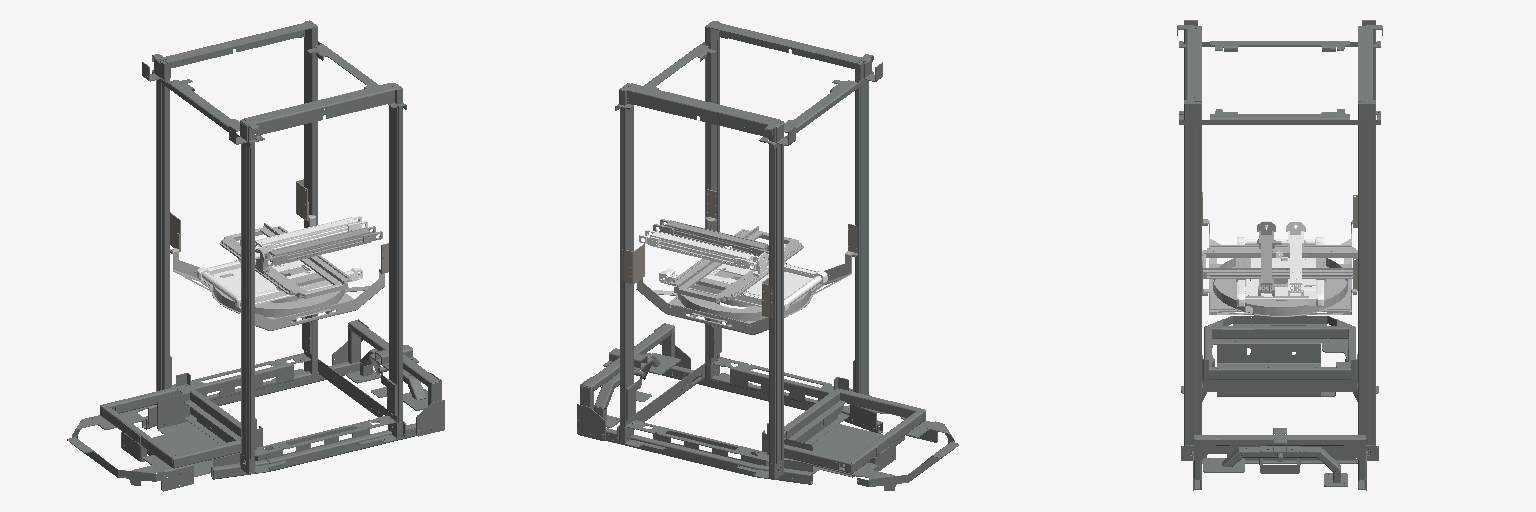
robot.urdf — soto_2_0_description:
<robot name="soto_2_0_description">
  <link name="base_footprint" />
  <joint name="base_footprint_to_base" type="fixed">
    
    <origin rpy="0 0 0" xyz="0 0 0.1815" />
    <parent link="base_footprint" />
    <child link="base_link" />
  </joint>
  
  <link name="base_link">
    <inertial>
      <origin rpy="0 0 0" xyz="-0.030858267467835 0.000734792595130519 -0.0262663159827579" />
      <mass value="63.5292905960047" />
      <inertia ixx="3.63597230656031" ixy="0.026575132004481" ixz="0.167726202587328" iyy="26.1224110628601" iyz="6.86288099105268E-05" izz="29.4697351846051" />
    </inertial>
    <visual>
      <origin rpy="0 0 0" xyz="0 0 0" />
      <geometry>
        <mesh filename="package://drive_base_soto_2_0_description/meshes/base_link.STL" />
      </geometry>
      <material name="">
        <color rgba="0.529411764705882 0.549019607843137 0.549019607843137 1" />
      </material>
    </visual>
    <collision>
      <origin rpy="0 0 0" xyz="0 0 0" />
      <geometry>
        <mesh filename="package://drive_base_soto_2_0_description/meshes/base_link.STL" />
      </geometry>
    </collision>
  </link>
  <joint name="manipulator_base_to_base_link" type="fixed">
    <origin rpy="0 0 0" xyz="0.2365 0 -0.0385" />
    <parent link="base_link" />
    <child link="manipulator_base_link" />
  </joint>
  <link name="gripper_carrier_frame_link">
    <inertial>
      <origin rpy="0 0 0" xyz="0.419871261985957 -0.378092873023538 -0.172763052387008" />
      <mass value="22.6544046182285" />
      <inertia ixx="0.000978681072360067" ixy="5.36158454747139E-06" ixz="5.72288391326164E-05" iyy="0.212674313369314" iyz="-4.50383372113037E-05" izz="0.211729185697808" />
    </inertial>
    <visual>
      <origin rpy="0 0 0" xyz="0 0 0" />
      <geometry>
        <mesh filename="package://vertical_axis_soto_2_0_description/meshes/gripper_carrier_frame_link.STL" />
      </geometry>
      <material name="">
        <color rgba="0.752941176470588 0.752941176470588 0.752941176470588 1" />
      </material>
    </visual>
    <collision>
      <origin rpy="0 0 0" xyz="0 0 0" />
      <geometry>
        <mesh filename="package://vertical_axis_soto_2_0_description/meshes/gripper_carrier_frame_link.STL" />
      </geometry>
    </collision>
  </link>
  <joint name="vertical_axis_to_carrier_frame" type="fixed">
    <origin rpy="0 0 0" xyz="0 0 0.2565" />
    <parent link="vertical_axis_link" />
    <child link="gripper_carrier_frame_link" />
  </joint>
  
  <link name="manipulator_base_link">
    <inertial>
      <origin rpy="0 0 0" xyz="0.0140831490754253 -0.0103314828835449 1.03628074208567" />
      <mass value="49.4957057836692" />
      <inertia ixx="28.4337696303107" ixy="0.170730173040725" ixz="0.770352253194218" iyy="27.3913289655028" iyz="0.419406036104634" izz="15.9885561853555" />
    </inertial>
    <visual>
      <origin rpy="0 0 0" xyz="0 0 0" />
      <geometry>
        <mesh filename="package://vertical_axis_soto_2_0_description/meshes/manipulator_base_link.STL" />
      </geometry>
      <material name="">
        <color rgba="0.529411764705882 0.549019607843137 0.549019607843137 1" />
      </material>
    </visual>
    <collision>
      <origin rpy="0 0 0" xyz="0 0 0" />
      <geometry>
        <mesh filename="package://vertical_axis_soto_2_0_description/meshes/manipulator_base_link.STL" />
      </geometry>
    </collision>
  </link>
  <link name="vertical_axis_link">
    <inertial>
      <origin rpy="0 0 0" xyz="0.420000000000104 -0.147165343803046 0.0668738949005537" />
      <mass value="4.67274949695533" />
      <inertia ixx="0.605491366340649" ixy="-1.6991963391888E-13" ixz="2.22521653880925E-14" iyy="0.756041439643056" iyz="-0.0117324984712755" izz="1.35863466880556" />
    </inertial>
    <visual>
      <origin rpy="0 0 0" xyz="0 0 0.2565" />
      <geometry>
        <mesh filename="package://vertical_axis_soto_2_0_description/meshes/vertical_axis_link.STL" />
      </geometry>
      <material name="">
        <color rgba="0.647058823529412 0.619607843137255 0.588235294117647 1" />
      </material>
    </visual>
    <collision>
      <origin rpy="0 0 0" xyz="0 0 0.2565" />
      <geometry>
        <mesh filename="package://vertical_axis_soto_2_0_description/meshes/vertical_axis_link.STL" />
      </geometry>
    </collision>
  </link>
  <joint name="vertical_axis" type="prismatic">
    <origin rpy="0 0 0" xyz="-0.420000000000075 0.381609999999924 -0.488" />
    <parent link="manipulator_base_link" />
    <child link="vertical_axis_link" />
    <axis xyz="0 0 1" />
    <limit effort="1368.21" lower="0.355" upper="1.968" velocity="0.322917" />
  </joint>
  <joint name="gripper_rotate" type="revolute">
    <origin rpy="0 0 0" xyz="0.42 -0.378 -0.1425" />
    <parent link="gripper_carrier_frame_link" />
    <child link="gripper_base_link" />
    <axis xyz="0 0 1" />
    <limit effort="18.0" lower="-1.62316" upper="3.19395" velocity="1.84078" />
  </joint>
  
  <link name="gripper_base_link">
    <inertial>
      <origin rpy="0 0 0" xyz="-0.0291964947014054 0.00185928064465478 0.0571112330957645" />
      <mass value="4.43604003962018" />
      <inertia ixx="0.00848228102782677" ixy="-0.00397948149068779" ixz="-0.000197943829855595" iyy="0.0294439378703873" iyz="-4.43345350995509E-05" izz="0.0375329931767107" />
    </inertial>
    <visual>
      <origin rpy="0 0 0" xyz="0 0 0" />
      <geometry>
        <mesh filename="package://conveyor_gripper_1_0_description/meshes/gripper_base_link.STL" />
      </geometry>
      <material name="">
        <color rgba="1 1 1 1" />
      </material>
    </visual>
    <collision>
      <origin rpy="0 0 0" xyz="0 0 0" />
      <geometry>
        <mesh filename="package://conveyor_gripper_1_0_description/meshes/gripper_base_link.STL" />
      </geometry>
    </collision>
  </link>
  <link name="gripper_base_x_link">
    
    <inertial>
      <origin xyz="0 0 0" />
      <mass value="1.0" />
      <inertia ixx="0.00166666666667" ixy="0" ixz="0" iyy="0.00166666666667" iyz="0" izz="0.00166666666667" />
    </inertial>
    <visual>
      <origin rpy="0 0 0" xyz="0 0 0" />
      <geometry>
        <mesh filename="package://conveyor_gripper_1_0_description/meshes/gripper_base_x_link.STL" />
      </geometry>
      <material name="">
        <color rgba="0.752941176470588 0.752941176470588 0.752941176470588 1" />
      </material>
    </visual>
    <collision>
      <origin rpy="0 0 0" xyz="0 0 0" />
      <geometry>
        <mesh filename="package://conveyor_gripper_1_0_description/meshes/gripper_base_x_link.STL" />
      </geometry>
    </collision>
  </link>
  <joint name="gripper_base_x" type="prismatic">
    <origin rpy="0 0 0" xyz="-0.3105 0 0.0334999999999999" />
    <parent link="gripper_base_link" />
    <child link="gripper_base_x_link" />
    <axis xyz="1 0 0" />
    <limit effort="149.65" lower="0.002" upper="0.359" velocity="0.296" />
  </joint>
  
  <joint name="gripper_base_x_to_lateral_frame" type="fixed">
    <origin rpy="0 0 0" xyz="0.16682 0.00254 0.09900" />
    <parent link="gripper_base_x_link" />
    <child link="gripper_lateral_frame_link" />
    <axis xyz="0 0 0" />
  </joint>
  
  <link name="gripper_surface_tip_link" />
  <joint name="gripper_lateral_base_to_surface_tip" type="fixed">
    <origin rpy="0 0 0" xyz="0.5286 0 0.09824" />
    <parent link="gripper_lateral_frame_link" />
    <child link="gripper_surface_tip_link" />
  </joint>
  
  <link name="gripper_lateral_frame_link">
    <inertial>
      <origin rpy="0 0 0" xyz="0.0109523584667708 -0.00213924832383244 -0.0127104571800313" />
      <mass value="9.06374767181828" />
      <inertia ixx="0.152907857864764" ixy="-0.000359950628530387" ixz="-0.00123889187432906" iyy="0.0557080358972366" iyz="-0.000575501671994657" izz="0.206424853480047" />
    </inertial>
    <visual>
      <origin rpy="0 0 0" xyz="0 0 0" />
      <geometry>
        <mesh filename="package://conveyor_gripper_1_0_description/meshes/gripper_lateral_frame_link.STL" />
      </geometry>
      <material name="">
        <color rgba="0.752941176470588 0.752941176470588 0.752941176470588 1" />
      </material>
    </visual>
    <collision>
      <origin rpy="0 0 0" xyz="0 0 0" />
      <geometry>
        <mesh filename="package://conveyor_gripper_1_0_description/meshes/gripper_lateral_frame_link.STL" />
      </geometry>
    </collision>
  </link>
  <link name="gripper_y_right_link">
    <inertial>
      <origin rpy="0 0 0" xyz="0.00354228739566675 -0.0287875724844683 -0.0242552174069289" />
      <mass value="0.327260297311246" />
      <inertia ixx="0.000196526493426853" ixy="-2.29379028088093E-05" ixz="7.56584769951965E-05" iyy="0.000210428427291072" iyz="4.8646299306573E-05" izz="5.22867445641922E-05" />
    </inertial>
    <visual>
      <origin rpy="0 0 0" xyz="0 0 0" />
      <geometry>
        <mesh filename="package://conveyor_gripper_1_0_description/meshes/gripper_y_right_link.STL" />
      </geometry>
      <material name="">
        <color rgba="0.698039215686274 0.698039215686274 0.698039215686274 1" />
      </material>
    </visual>
    <collision>
      <origin rpy="0 0 0" xyz="0 0 0" />
      <geometry>
        <mesh filename="package://conveyor_gripper_1_0_description/meshes/gripper_y_right_link.STL" />
      </geometry>
    </collision>
  </link>
  <joint name="gripper_y_right" type="prismatic">
    <origin rpy="0 0 0" xyz="-0.1895 -0.291 0.0768" />
    <parent link="gripper_lateral_frame_link" />
    <child link="gripper_y_right_link" />
    <axis xyz="0 1 0" />
    <limit effort="36.9721" lower="0.002" upper="0.498" velocity="0.414175" />
  </joint>
  <link name="gripper_y_right_dist_x_sensor">
    
    <inertial>
      <origin xyz="0 0 0" />
      <mass value="0.206" />
      <inertia ixx="0.000343333333333" ixy="0" ixz="0" iyy="0.000343333333333" iyz="0" izz="0.000343333333333" />
    </inertial>
    <visual>
      <origin rpy="0 0 0" xyz="0 0 0" />
      <geometry>
        <mesh filename="package://conveyor_gripper_1_0_description/meshes/gripper_y_right_dist_x_sensor.STL" />
      </geometry>
      <material name="">
        <color rgba="1 1 1 1" />
      </material>
    </visual>
  </link>
  <joint name="gripper_y_right_to_dist_x_sensor" type="fixed">
    <origin rpy="1.5707963267949 8.45933770995668E-16 1.72247079380644E-16" xyz="-0.000773072340143593 -0.0340048054495324 0.0292" />
    <parent link="gripper_y_right_link" />
    <child link="gripper_y_right_dist_x_sensor" />
    <axis xyz="0 0 0" />
  </joint>
  <link name="gripper_y_left_link">
    <inertial>
      <origin rpy="0 0 0" xyz="0.00355881845944125 -0.0392124275155317 -0.0242552174069289" />
      <mass value="0.327260297311246" />
      <inertia ixx="0.000196526493426853" ixy="2.2946784360994E-05" ixz="7.58716206094717E-05" iyy="0.000210573949255188" iyz="-4.86462993065728E-05" izz="5.24322665283085E-05" />
    </inertial>
    <visual>
      <origin rpy="0 0 0" xyz="0 0 0" />
      <geometry>
        <mesh filename="package://conveyor_gripper_1_0_description/meshes/gripper_y_left_link.STL" />
      </geometry>
      <material name="">
        <color rgba="1 1 1 1" />
      </material>
    </visual>
    <collision>
      <origin rpy="0 0 0" xyz="0 0 0" />
      <geometry>
        <mesh filename="package://conveyor_gripper_1_0_description/meshes/gripper_y_left_link.STL" />
      </geometry>
    </collision>
  </link>
  <joint name="gripper_y_left" type="prismatic">
    <origin rpy="0 0 0" xyz="-0.1895 0.359 0.0768" />
    <parent link="gripper_lateral_frame_link" />
    <child link="gripper_y_left_link" />
    <axis xyz="0 -1 0" />
    <limit effort="36.9721" lower="0.002" upper="0.498" velocity="0.414175" />
  </joint>
  <link name="gripper_y_left_dist_x_sensor">
    
    <inertial>
      <origin xyz="0 0 0" />
      <mass value="0.206" />
      <inertia ixx="0.000343333333333" ixy="0" ixz="0" iyy="0.000343333333333" iyz="0" izz="0.000343333333333" />
    </inertial>
    <visual>
      <origin rpy="0 0 0" xyz="0 0 0" />
      <geometry>
        <mesh filename="package://conveyor_gripper_1_0_description/meshes/gripper_y_left_dist_x_sensor.STL" />
      </geometry>
      <material name="">
        <color rgba="1 1 1 1" />
      </material>
    </visual>
  </link>
  <joint name="gripper_y_left_to_dist_x_sensor" type="fixed">
    <origin rpy="-1.5707963267949 2.6257874588619E-16 4.90441639395184E-17" xyz="-0.00077307234014351 -0.0339951945504676 0.0292" />
    <parent link="gripper_y_left_link" />
    <child link="gripper_y_left_dist_x_sensor" />
    <axis xyz="0 0 0" />
  </joint>
  
  <joint name="gripper_y_right_to_belt_right" type="fixed">
    <parent link="gripper_y_right_link" />
    <child link="conveyor_belt_right_base_link" />
  </joint>
  
  <link name="conveyor_belt_right_link">
    
    <inertial>
      <origin xyz="0 0 0" />
      <mass value="0.5" />
      <inertia ixx="0.000833333333333" ixy="0" ixz="0" iyy="0.000833333333333" iyz="0" izz="0.000833333333333" />
    </inertial>
  </link>
  <joint name="conveyor_belt_right" type="prismatic">
    <origin rpy="0 0 0" xyz="0 0 0" />
    <parent link="conveyor_belt_right_surface_foremost_link" />
    <child link="conveyor_belt_right_link" />
    <axis xyz="-1 0 0" />
    
    <limit effort="30" lower="0" upper="0.60" velocity="1" />
  </joint>
  
  <link name="conveyor_belt_right_base_link">
    <inertial>
      <origin rpy="0 0 0" xyz="0.353839700449319 -0.0342492002501805 -0.0100000000278072" />
      <mass value="1.75237629293966" />
      <inertia ixx="0.00106107197657959" ixy="3.25747306440015E-06" ixz="3.63423703976073E-13" iyy="0.0518565044065418" iyz="-3.83928274166947E-14" izz="0.0519817058628901" />
    </inertial>
    <visual>
      <origin rpy="0 0 0" xyz="0 0 0" />
      <geometry>
        <mesh filename="package://conveyor_gripper_1_0_description/meshes/conveyor_belt_right_base_link.STL" />
      </geometry>
      <material name="">
        <color rgba="0.698039215686274 0.698039215686274 0.698039215686274 1" />
      </material>
    </visual>
    <collision>
      <origin rpy="0 0 0" xyz="0 0 0" />
      <geometry>
        <mesh filename="package://conveyor_gripper_1_0_description/meshes/conveyor_belt_right_base_link.STL" />
      </geometry>
    </collision>
  </link>
  <link name="conveyor_belt_right_foremost_link" />
  <joint name="belt_right_base_to_foremost" type="fixed">
    <origin rpy="0 0 0" xyz="0.718038238155445 -0.0339999999950005 0.02174" />
    <parent link="conveyor_belt_right_base_link" />
    <child link="conveyor_belt_right_foremost_link" />
    <axis xyz="0 0 0" />
  </joint>
  <link name="conveyor_belt_right_surface_foremost_link">
    
    <inertial>
      <origin xyz="0 0 0" />
      <mass value="0.01" />
      <inertia ixx="1.66666666667e-05" ixy="0" ixz="0" iyy="1.66666666667e-05" iyz="0" izz="1.66666666667e-05" />
    </inertial>
  </link>
  <joint name="belt_right_base_to_surface_foremost" type="fixed">
    <origin rpy="0 0 0" xyz="0.686298238155445 -0.0339999999950005 0.02174" />
    <parent link="conveyor_belt_right_base_link" />
    <child link="conveyor_belt_right_surface_foremost_link" />
    <axis xyz="0 0 0" />
  </joint>
  
  <joint name="gripper_y_left_to_belt" type="fixed">
    <parent link="gripper_y_left_link" />
    <child link="conveyor_belt_left_base_link" />
  </joint>
  
  <link name="conveyor_belt_left_link">
    
    <inertial>
      <origin xyz="0 0 0" />
      <mass value="0.5" />
      <inertia ixx="0.000833333333333" ixy="0" ixz="0" iyy="0.000833333333333" iyz="0" izz="0.000833333333333" />
    </inertial>
  </link>
  <joint name="conveyor_belt_left" type="prismatic">
    <origin rpy="0 0 0" xyz="0 0 0" />
    <parent link="conveyor_belt_left_surface_foremost_link" />
    <child link="conveyor_belt_left_link" />
    <axis xyz="-1 0 0" />
    
    <limit effort="30" lower="0" upper="0.60" velocity="1" />
  </joint>
  
  <link name="conveyor_belt_left_base_link">
    <inertial>
      <origin rpy="0 0 0" xyz="0.351579454282733 -0.0337525735461215 -0.00999999997239077" />
      <mass value="1.76493912170865" />
      <inertia ixx="0.00108186929664942" ixy="-4.24450588331179E-06" ixz="-4.73563126814083E-13" iyy="0.0531142162231874" iyz="-3.84792553638102E-14" izz="0.0532602149996055" />
    </inertial>
    <visual>
      <origin rpy="0 0 0" xyz="0 0 0" />
      <geometry>
        <mesh filename="package://conveyor_gripper_1_0_description/meshes/conveyor_belt_left_base_link.STL" />
      </geometry>
      <material name="">
        <color rgba="1 1 1 1" />
      </material>
    </visual>
    <collision>
      <origin rpy="0 0 0" xyz="0 0 0" />
      <geometry>
        <mesh filename="package://conveyor_gripper_1_0_description/meshes/conveyor_belt_left_base_link.STL" />
      </geometry>
    </collision>
  </link>
  <link name="conveyor_belt_left_foremost_link" />
  <joint name="base_left_to_foremost" type="fixed">
    <origin rpy="0 0 0" xyz="0.718038238155445 -0.0339999999950005 0.02174" />
    <parent link="conveyor_belt_left_base_link" />
    <child link="conveyor_belt_left_foremost_link" />
    <axis xyz="0 0 0" />
  </joint>
  <link name="conveyor_belt_left_surface_foremost_link">
    
    <inertial>
      <origin xyz="0 0 0" />
      <mass value="0.01" />
      <inertia ixx="1.66666666667e-05" ixy="0" ixz="0" iyy="1.66666666667e-05" iyz="0" izz="1.66666666667e-05" />
    </inertial>
  </link>
  <joint name="belt_left_to_surface_foremost" type="fixed">
    <origin rpy="0 0 0" xyz="0.686298238155445 -0.0339999999950005 0.02174" />
    <parent link="conveyor_belt_left_base_link" />
    <child link="conveyor_belt_left_surface_foremost_link" />
    <axis xyz="0 0 0" />
  </joint>
  <link name="conveyor_belt_left_barcode_camera">
    
    <inertial>
      <origin xyz="0 0 0" />
      <mass value="0.1" />
      <inertia ixx="0.000166666666667" ixy="0" ixz="0" iyy="0.000166666666667" iyz="0" izz="0.000166666666667" />
    </inertial>
    <visual>
      <origin rpy="0 0 0" xyz="0 0 0" />
      <geometry>
        <mesh filename="package://conveyor_gripper_1_0_description/meshes/conveyor_belt_left_barcode_camera.STL" />
      </geometry>
      <material name="">
        <color rgba="1 1 1 1" />
      </material>
    </visual>
  </link>
  <joint name="conveyor_base_left_to_barcode_camera" type="fixed">
    
    <origin rpy="1.3660676472658 0.00532358718963196 1.38245094245529" xyz="0.260007017149422 -0.122391992222825 -0.0116598009191592" />
    <parent link="conveyor_belt_left_base_link" />
    <child link="conveyor_belt_left_barcode_camera" />
    <axis xyz="0 0 0" />
  </joint>
  <link name="conveyor_belt_left_reflective_sensor">
    
    <inertial>
      <origin xyz="0 0 0" />
      <mass value="0.07" />
      <inertia ixx="0.000116666666667" ixy="0" ixz="0" iyy="0.000116666666667" iyz="0" izz="0.000116666666667" />
    </inertial>
    <visual>
      <origin rpy="0 0 0" xyz="0 0 0" />
      <geometry>
        <mesh filename="package://conveyor_gripper_1_0_description/meshes/conveyor_belt_left_reflective_sensor.STL" />
      </geometry>
      <material name="">
        <color rgba="1 1 1 1" />
      </material>
    </visual>
  </link>
  <joint name="conveyor_belt_left_base_to_reflective" type="fixed">
    <origin rpy="-1.5707963267949 1.45855003581176E-16 -5.73827871115263E-16" xyz="0.242349119077722 -0.0938499999900007 -0.0408000000099999" />
    <parent link="conveyor_belt_left_base_link" />
    <child link="conveyor_belt_left_reflective_sensor" />
    <axis xyz="0 0 0" />
  </joint>
  <link name="conveyor_belt_left_safety_dist_sensor">
    
    <inertial>
      <origin xyz="0 0 0" />
      <mass value="0.206" />
      <inertia ixx="0.000343333333333" ixy="0" ixz="0" iyy="0.000343333333333" iyz="0" izz="0.000343333333333" />
    </inertial>
    <visual>
      <origin rpy="0 0 0" xyz="0 0 0" />
      <geometry>
        <mesh filename="package://conveyor_gripper_1_0_description/meshes/conveyor_belt_left_safety_dist_sensor.STL" />
      </geometry>
      <material name="">
        <color rgba="1 1 1 1" />
      </material>
    </visual>
  </link>
  <joint name="conveyor_belt_left_base_to_safety_dist" type="fixed">
    <origin rpy="0 0 0" xyz="0.224026046737579 -0.0922499999900007 -0.0129951945604675" />
    <parent link="conveyor_belt_left_base_link" />
    <child link="conveyor_belt_left_safety_dist_sensor" />
    <axis xyz="0 0 0" />
  </joint>
  </robot>

--- What the picture shows (computed from the rendered views, not written in the file) ---
3 views of the same robot in one strip: view 1: azimuth 30°, elevation 25°; view 2: azimuth 150°, elevation 25°; view 3: azimuth 270°, elevation 25° (orthographic).
Model soto_2_0_description with 24 links and 23 joints (1 revolute, 6 prismatic, 16 fixed), rooted at base_footprint, posed all joints at 0 but 4 set to mid-range because 0 is outside their limits (vertical_axis = 1.16, gripper_base_x = 0.1805, gripper_y_right = 0.25, gripper_y_left = 0.25).
Links seen in each view (by area): view 1: manipulator_base_link, base_link, gripper_carrier_frame_link, gripper_base_link, gripper_lateral_frame_link, conveyor_belt_right_base_link, conveyor_belt_left_base_link, vertical_axis_link; view 2: manipulator_base_link, base_link, gripper_carrier_frame_link, gripper_lateral_frame_link, gripper_base_link, conveyor_belt_left_base_link, vertical_axis_link, conveyor_belt_right_base_link; view 3: manipulator_base_link, base_link, gripper_carrier_frame_link, gripper_lateral_frame_link, gripper_base_link, conveyor_belt_left_base_link, conveyor_belt_right_base_link.
Link boxes in pixels (<box>): manipulator_base_link: <box>142,20,406,474</box>; base_link: <box>67,319,444,491</box>; gripper_carrier_frame_link: <box>170,215,384,330</box>; gripper_base_link: <box>197,260,362,308</box>; gripper_lateral_frame_link: <box>220,223,351,298</box>; conveyor_belt_right_base_link: <box>264,226,382,266</box>; conveyor_belt_left_base_link: <box>255,216,367,252</box>; vertical_axis_link: <box>170,179,388,305</box>; manipulator_base_link: <box>615,21,882,479</box>; base_link: <box>577,323,958,490</box>; gripper_carrier_frame_link: <box>636,217,853,334</box>; gripper_lateral_frame_link: <box>670,226,803,302</box>; gripper_base_link: <box>659,264,827,311</box>; conveyor_belt_left_base_link: <box>639,230,758,270</box>; vertical_axis_link: <box>622,189,857,317</box>; conveyor_belt_right_base_link: <box>653,219,768,259</box>; manipulator_base_link: <box>1177,20,1382,463</box>; base_link: <box>1193,316,1366,490</box>; gripper_carrier_frame_link: <box>1204,220,1356,316</box>; gripper_lateral_frame_link: <box>1202,245,1357,281</box>; gripper_base_link: <box>1237,237,1323,306</box>; conveyor_belt_left_base_link: <box>1288,231,1303,295</box>; conveyor_belt_right_base_link: <box>1258,231,1274,295</box>.
Bounding box of the posed robot: 2.02 × 1.05 × 2.05 m (x, y, z).
14 mesh visuals loaded from 16 distinct referenced files (14 binary STL); not drawn: 2 (reference not matched to a file when rendering).
